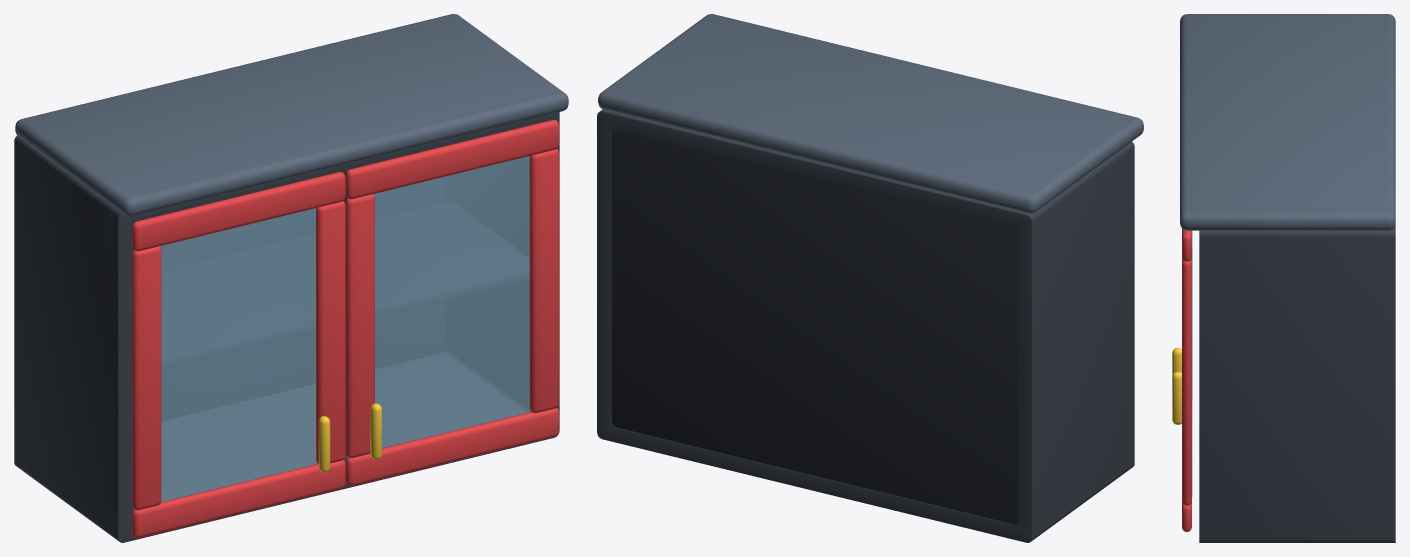
The model's file is armario_parede_vidro_grafite.glb.
The picture shows the model from 3 angles, left to right: view 1: azimuth 30°, elevation 25°; view 2: azimuth 150°, elevation 25°; view 3: azimuth 270°, elevation 25°; orthographic projection. The views are drawn at different scales.
Visible parts, largest first — view 1: armario_parede_vidro_grafite, porta_2, porta_1; view 2: armario_parede_vidro_grafite; view 3: armario_parede_vidro_grafite, porta_2, porta_1.
Part boxes in pixels (left/top/right/bottom): armario_parede_vidro_grafite: left=14, top=14, right=568, bottom=542; porta_2: left=345, top=120, right=559, bottom=485; porta_1: left=132, top=172, right=345, bottom=538; armario_parede_vidro_grafite: left=597, top=14, right=1143, bottom=542; armario_parede_vidro_grafite: left=1180, top=14, right=1395, bottom=542; porta_2: left=1172, top=228, right=1192, bottom=531; porta_1: left=1172, top=231, right=1192, bottom=398.
Bounding box in the file's own units: 0.798 × 0.6 × 0.3687.
Materials: 2 (1 with a texture image).
